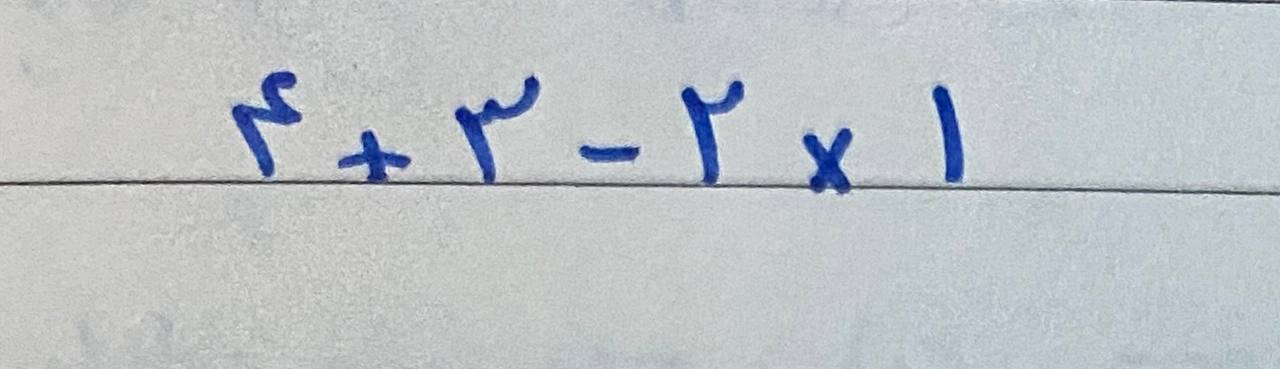character: (453, 74, 537, 187), (231, 72, 304, 179), (681, 79, 744, 186), (338, 127, 409, 189), (930, 85, 968, 183), (801, 129, 855, 193), (580, 142, 641, 164)
